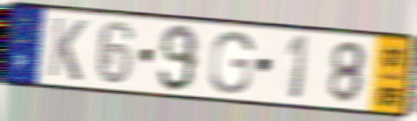1: (284, 32, 310, 103)
6: (96, 18, 136, 87)
8: (326, 39, 369, 105)
9: (157, 22, 199, 95)
G: (207, 29, 256, 96)
K: (46, 14, 89, 84)
